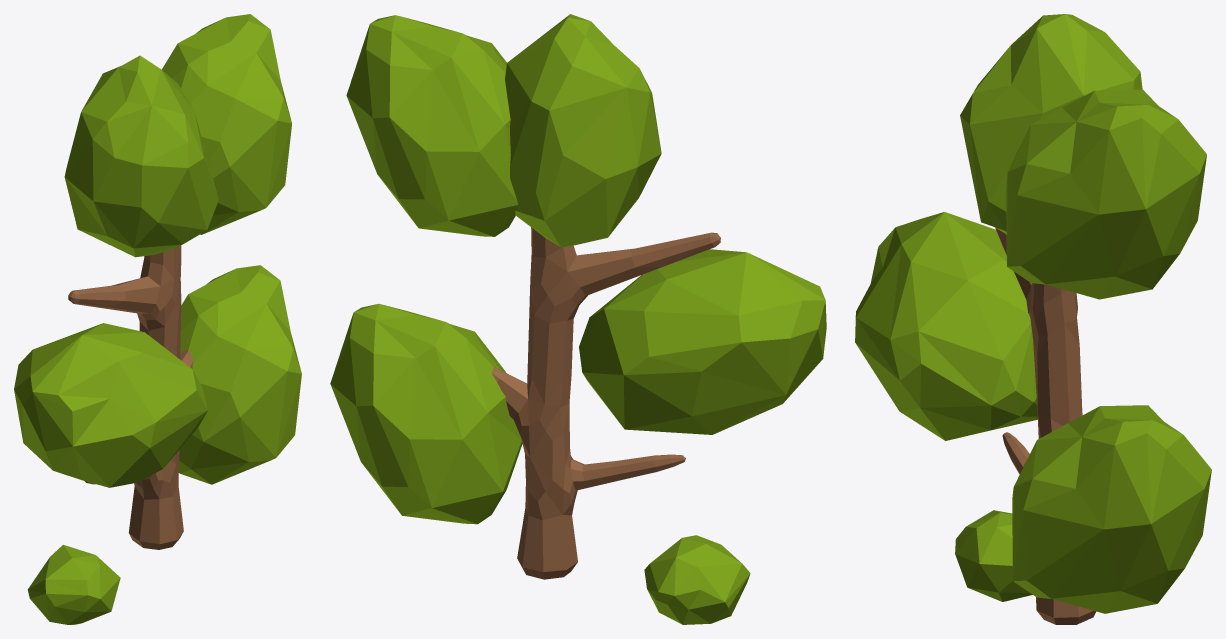
The model's file is tree-summer-complete-11-054.glb.
3 views of the same model, side by side, from view 1: azimuth 30°, elevation 25°; view 2: azimuth 150°, elevation 25°; view 3: azimuth 270°, elevation 25° (orthographic). The views are drawn at different scales.
Visible parts, largest first — view 1: TREE 11_282, TREE 11.001_283; view 2: TREE 11_282, TREE 11.001_283; view 3: TREE 11_282, TREE 11.001_283.
Boxes of the visible parts, bbox=[...] form: TREE 11_282: bbox=[14, 14, 301, 624]; TREE 11.001_283: bbox=[68, 245, 193, 549]; TREE 11_282: bbox=[330, 14, 826, 624]; TREE 11.001_283: bbox=[491, 227, 720, 579]; TREE 11_282: bbox=[855, 14, 1211, 613]; TREE 11.001_283: bbox=[995, 228, 1096, 624].
Size of the model in its own units: 1.25 by 1.85 by 0.9391.
